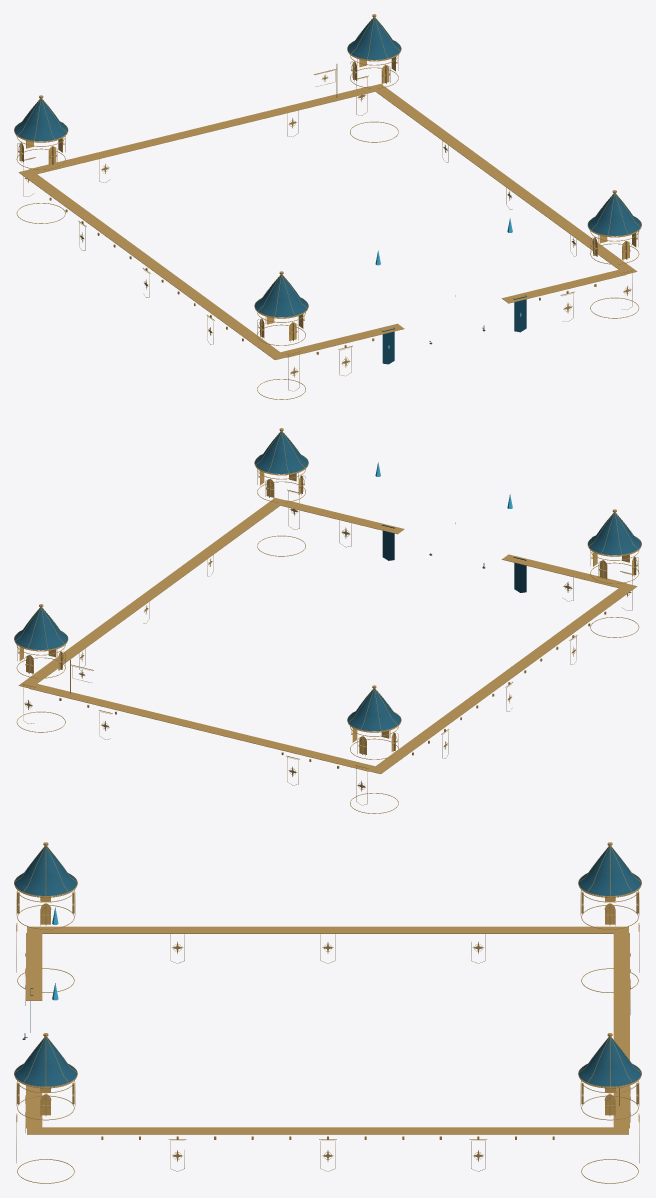
Rendered from castle-02.glb.
3 renders of one model, top to bottom at view 1: azimuth 30°, elevation 25°; view 2: azimuth 150°, elevation 25°; view 3: azimuth 270°, elevation 25°, orthographic. The views are drawn at different scales.
Visible parts, largest first — view 1: NC.Export.Fortifications.RoyalGold.01, NC.Export.Fortifications.TealRoof, NC.Export.Fortifications.RoyalGold.00, NC.Export.Fortifications.WarmWindow, NC.Export.Gatehouse.BannerTeal; view 2: NC.Export.Fortifications.RoyalGold.01, NC.Export.Fortifications.TealRoof, NC.Export.Fortifications.RoyalGold.00, NC.Export.Fortifications.WarmWindow, NC.Export.Gatehouse.BannerTeal; view 3: NC.Export.Fortifications.RoyalGold.01, NC.Export.Fortifications.TealRoof, NC.Export.Fortifications.RoyalGold.00, NC.Export.Fortifications.WarmWindow.
Part boxes in pixels (x1,y1,x2,y2): NC.Export.Fortifications.RoyalGold.01: (18,14,637,391); NC.Export.Fortifications.TealRoof: (14,17,641,317); NC.Export.Fortifications.RoyalGold.00: (14,52,641,399); NC.Export.Fortifications.WarmWindow: (21,57,636,340); NC.Export.Gatehouse.BannerTeal: (382,296,526,364); NC.Export.Fortifications.RoyalGold.01: (14,489,637,805); NC.Export.Fortifications.TealRoof: (14,431,641,731); NC.Export.Fortifications.RoyalGold.00: (15,428,641,813); NC.Export.Fortifications.WarmWindow: (19,471,634,754); NC.Export.Gatehouse.BannerTeal: (382,525,526,592); NC.Export.Fortifications.RoyalGold.01: (16,923,641,1171); NC.Export.Fortifications.TealRoof: (14,846,641,1086); NC.Export.Fortifications.RoyalGold.00: (14,842,641,1183); NC.Export.Fortifications.WarmWindow: (40,897,615,1115).
Size of the model in its own units: 110 by 32.31 by 134.
